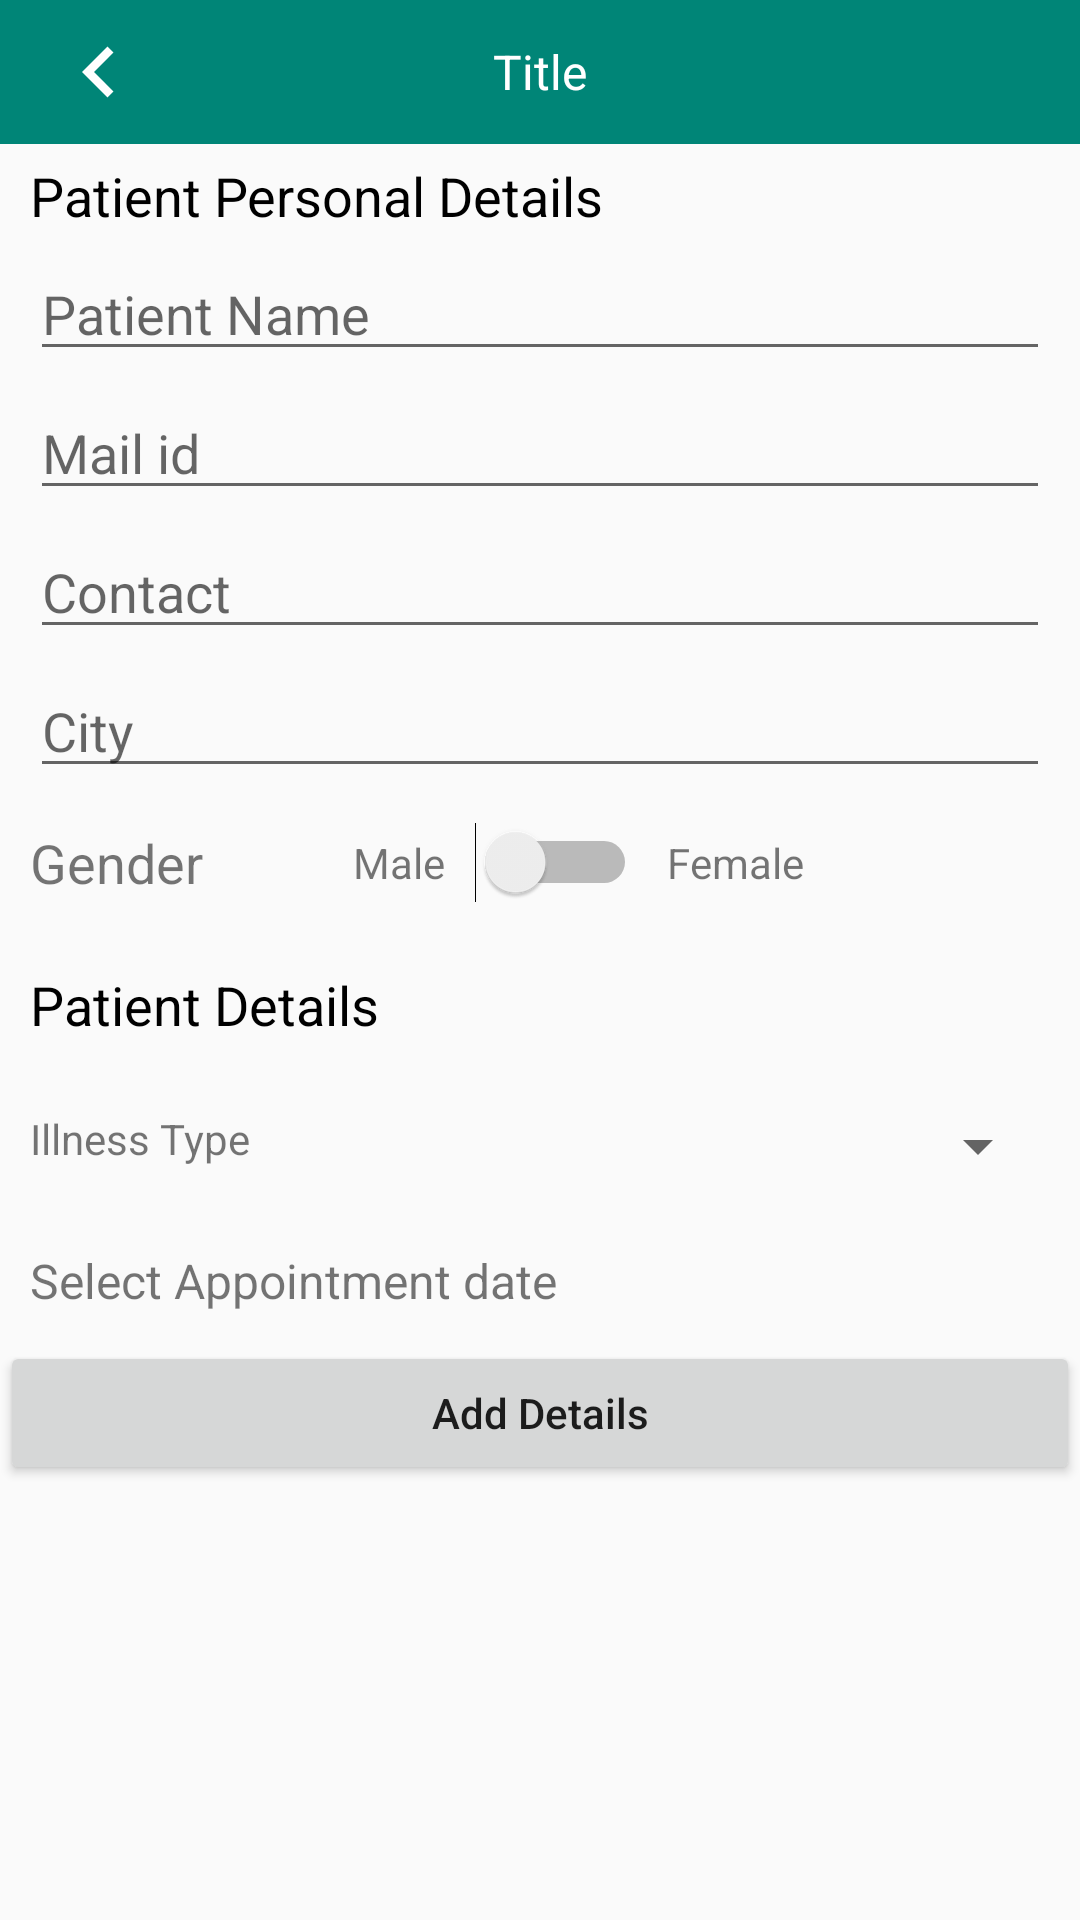

Named icons in this screenshot (1080x1920) and their centers, (x,y):
left: (98,72)
